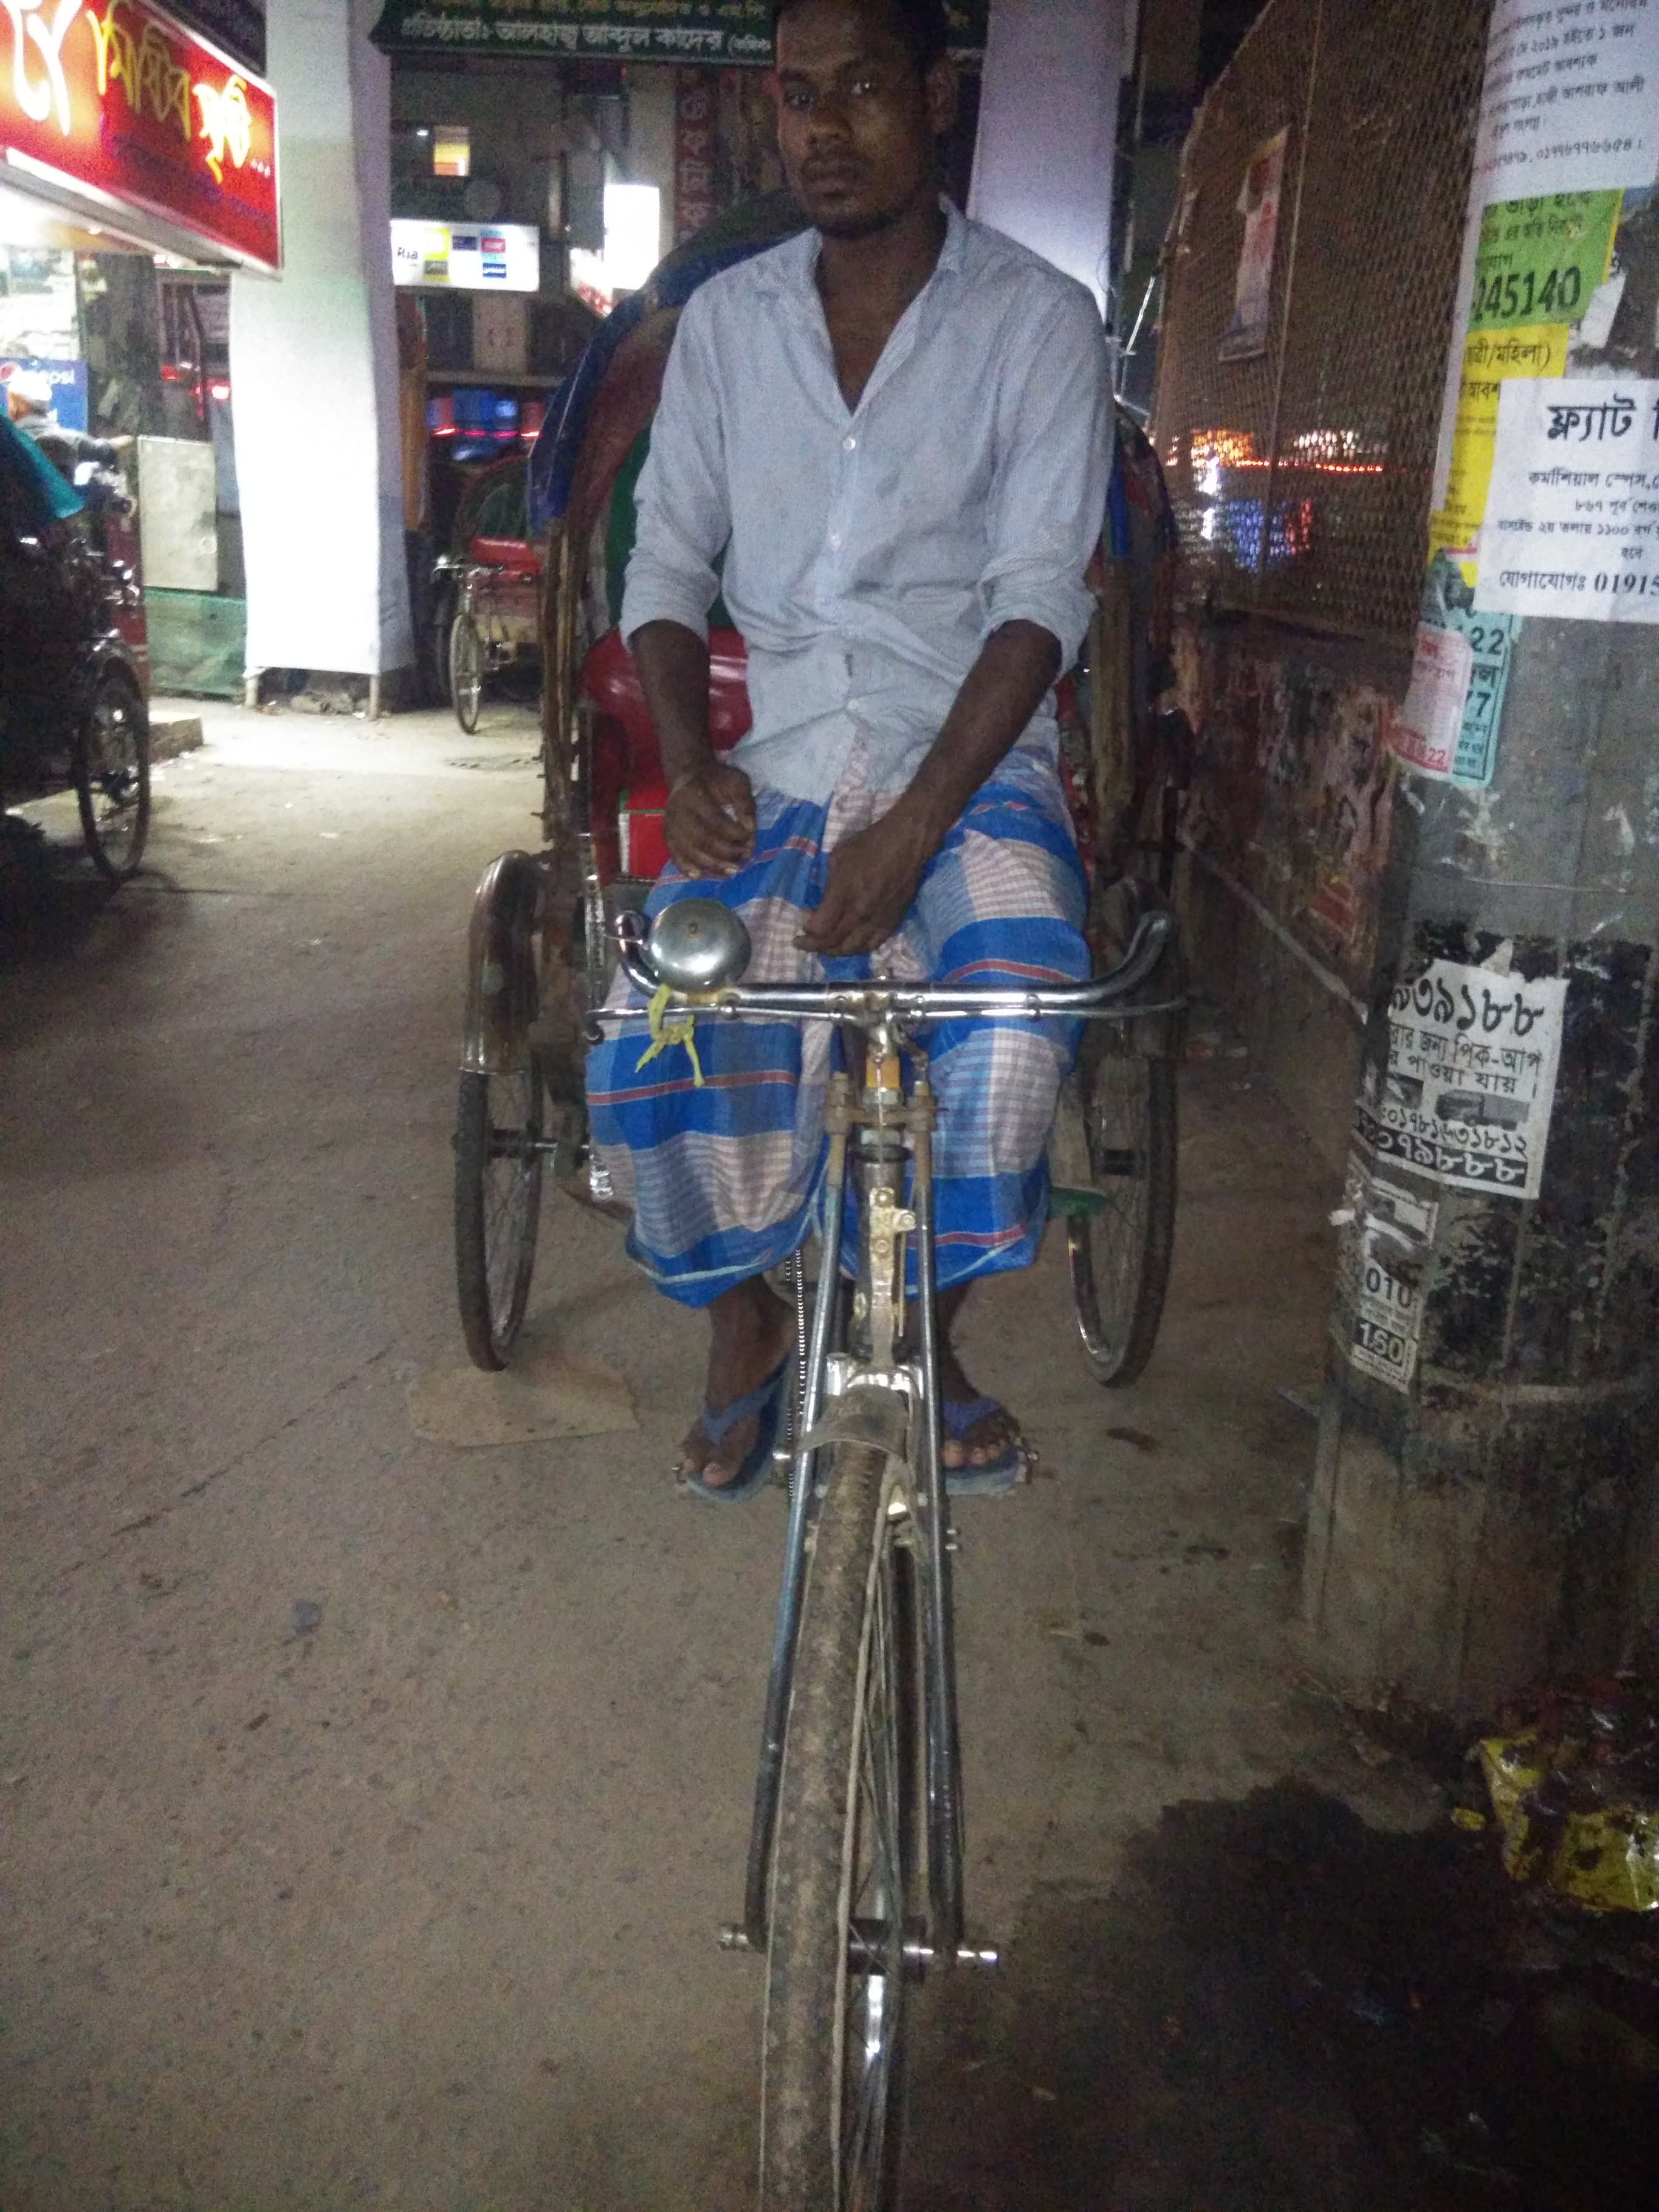Rickshaw: (415, 23, 1246, 2210), (3, 387, 171, 921), (404, 395, 594, 730)
